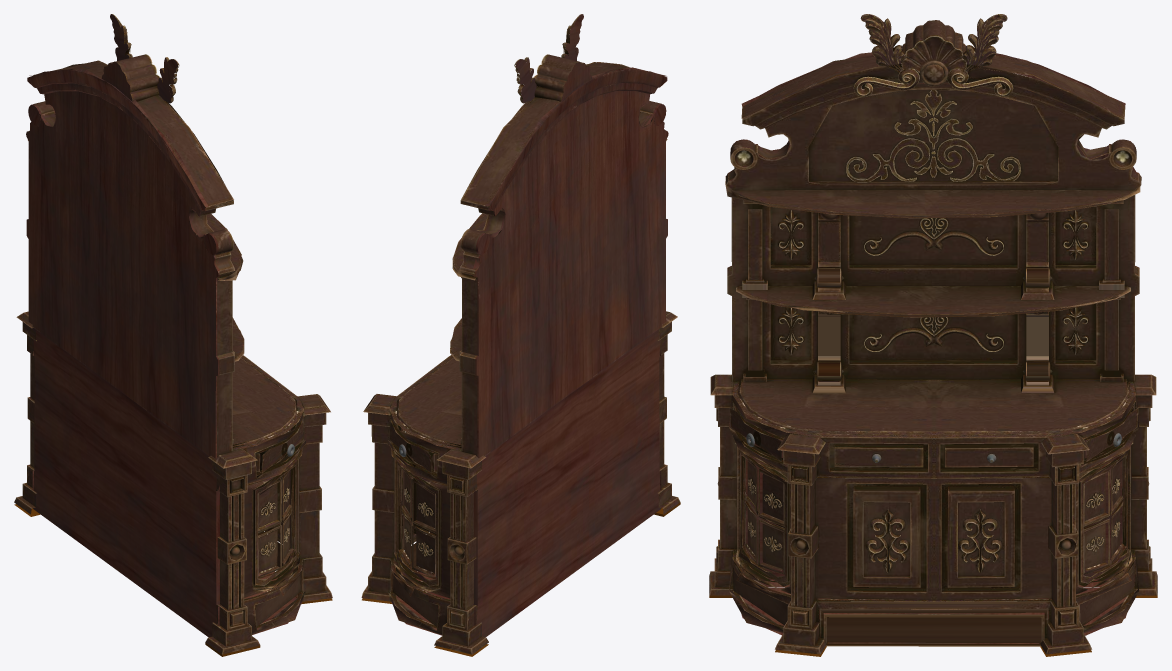
File: wardrobe_antique.glb
3 renders of one model, left to right at view 1: azimuth 30°, elevation 25°; view 2: azimuth 150°, elevation 25°; view 3: azimuth 270°, elevation 25°, orthographic. The views are drawn at different scales.
Visible parts, largest first — view 1: backCube.002_low_Backface_0, backCircle_low_Backface_0, Circle_low_Cabinet_0, Cube_low_Cabinet_0, Cube.002_low_Cabinet_0, _3_low_Cabinet_0, backFL17_low_Backface_0, Circle.001_low_Cabinet_0, back_3_low_Backface_0, Cylinder_low_Cabinet_0, backCylinder_low_Backface_0; view 2: backCube.002_low_Backface_0, backCircle_low_Backface_0, Circle_low_Cabinet_0, Cube_low_Cabinet_0, Cube.002_low_Cabinet_0, _3_low_Cabinet_0, backFL17_low_Backface_0, Circle.001_low_Cabinet_0, back_3_low_Backface_0, Cylinder_low_Cabinet_0, backCylinder_low_Backface_0; view 3: Circle_low_Cabinet_0, Cube.002_low_Cabinet_0, Cube_low_Cabinet_0, Circle.001_low_Cabinet_0, Cube.001_low_Cabinet_0, Curve.044_low_Cabinet_0, backCircle_low_Backface_0, Cube.004_low_Cabinet_0, Cube.005_low_Cabinet_0, _3_low_Cabinet_0, FL17_low_Cabinet_0, Curve_low_Cabinet_0 (+9 smaller).
Boxes of the visible parts, x1=… form: backCube.002_low_Backface_0: x1=26, y1=69, x2=221, y2=458; backCircle_low_Backface_0: x1=32, y1=330, x2=302, y2=637; Circle_low_Cabinet_0: x1=216, y1=355, x2=305, y2=634; Cube_low_Cabinet_0: x1=14, y1=311, x2=332, y2=654; Cube.002_low_Cabinet_0: x1=30, y1=60, x2=235, y2=456; _3_low_Cabinet_0: x1=105, y1=54, x2=160, y2=101; backFL17_low_Backface_0: x1=110, y1=14, x2=177, y2=103; Circle.001_low_Cabinet_0: x1=28, y1=140, x2=244, y2=361; back_3_low_Backface_0: x1=101, y1=61, x2=132, y2=101; Cylinder_low_Cabinet_0: x1=33, y1=101, x2=233, y2=255; backCylinder_low_Backface_0: x1=28, y1=104, x2=220, y2=255; backCube.002_low_Backface_0: x1=472, y1=67, x2=668, y2=458; backCircle_low_Backface_0: x1=391, y1=329, x2=661, y2=637; Circle_low_Cabinet_0: x1=388, y1=355, x2=477, y2=634; Cube_low_Cabinet_0: x1=361, y1=311, x2=680, y2=654; Cube.002_low_Cabinet_0: x1=459, y1=62, x2=665, y2=456; _3_low_Cabinet_0: x1=533, y1=54, x2=588, y2=101; backFL17_low_Backface_0: x1=515, y1=14, x2=583, y2=103; Circle.001_low_Cabinet_0: x1=450, y1=139, x2=667, y2=361; back_3_low_Backface_0: x1=561, y1=62, x2=592, y2=100; Cylinder_low_Cabinet_0: x1=460, y1=101, x2=661, y2=254; backCylinder_low_Backface_0: x1=476, y1=104, x2=666, y2=254; Circle_low_Cabinet_0: x1=729, y1=379, x2=1139, y2=646; Cube.002_low_Cabinet_0: x1=725, y1=55, x2=1141, y2=387; Cube_low_Cabinet_0: x1=709, y1=374, x2=1157, y2=654; Circle.001_low_Cabinet_0: x1=725, y1=182, x2=1140, y2=317; Cube.001_low_Cabinet_0: x1=742, y1=200, x2=1124, y2=382; Curve.044_low_Cabinet_0: x1=846, y1=90, x2=1021, y2=182; backCircle_low_Backface_0: x1=740, y1=388, x2=1126, y2=643; Cube.004_low_Cabinet_0: x1=812, y1=212, x2=1054, y2=299; Cube.005_low_Cabinet_0: x1=812, y1=311, x2=1054, y2=393; _3_low_Cabinet_0: x1=901, y1=20, x2=966, y2=86; FL17_low_Cabinet_0: x1=861, y1=14, x2=1007, y2=72; Curve_low_Cabinet_0: x1=866, y1=509, x2=1002, y2=572.
Size of the model in its own units: 0.6791 by 2.29 by 1.6.
Materials: 3 (2 with a texture image).
